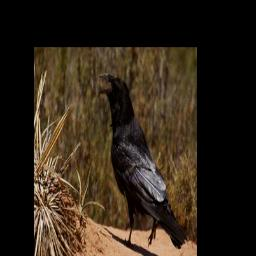Crow: (99, 73, 188, 249)
